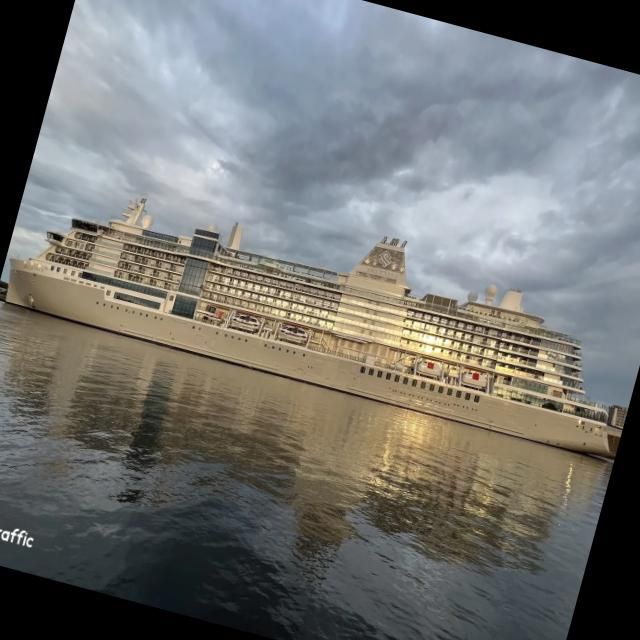Cruise: (5, 198, 617, 455)
